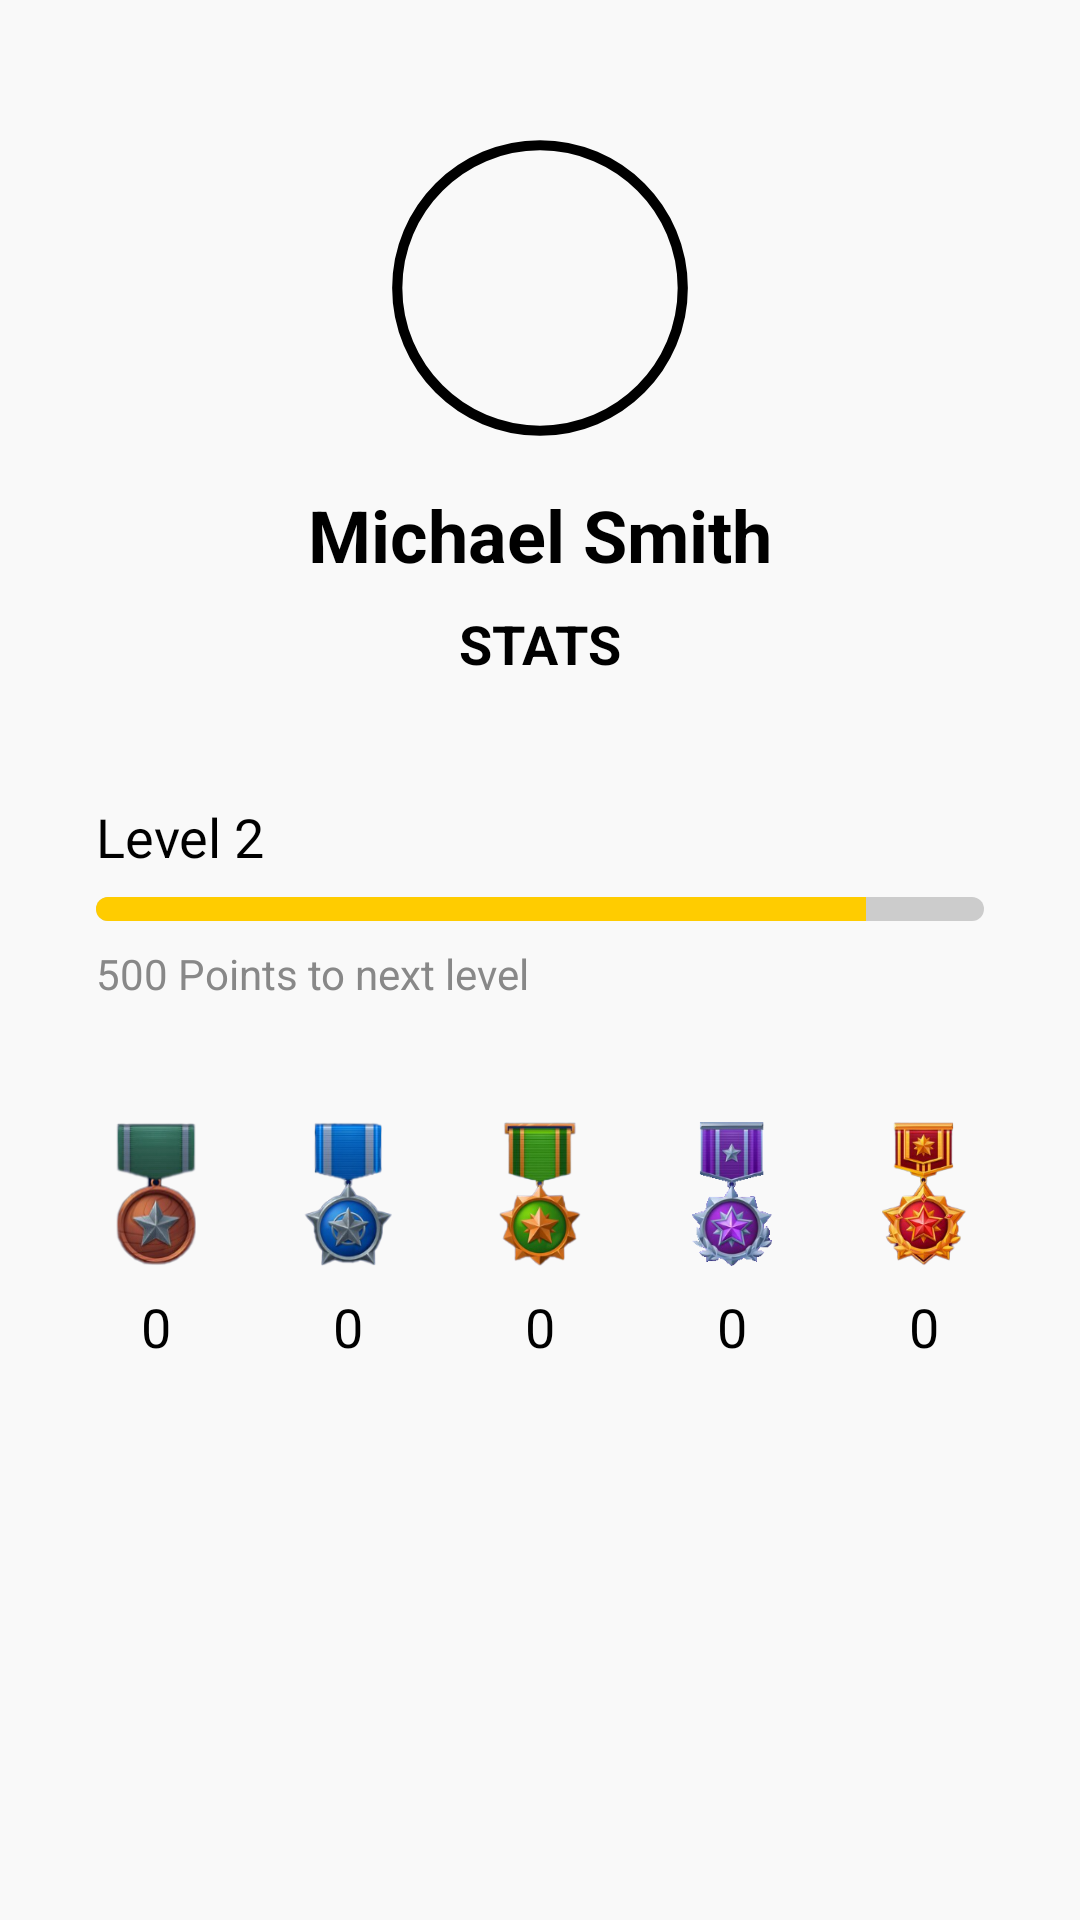

Icon bounding boxes for this 1080w x 1920h phone screenshot, format (x1,y1,x2,y2):
Bronze Medal: (117,1123,196,1265)
Gold Medal: (499,1122,580,1265)
Purple Medal: (692,1122,772,1266)
Ruby Medal: (882,1122,966,1265)
Silver Medal: (305,1123,392,1265)
